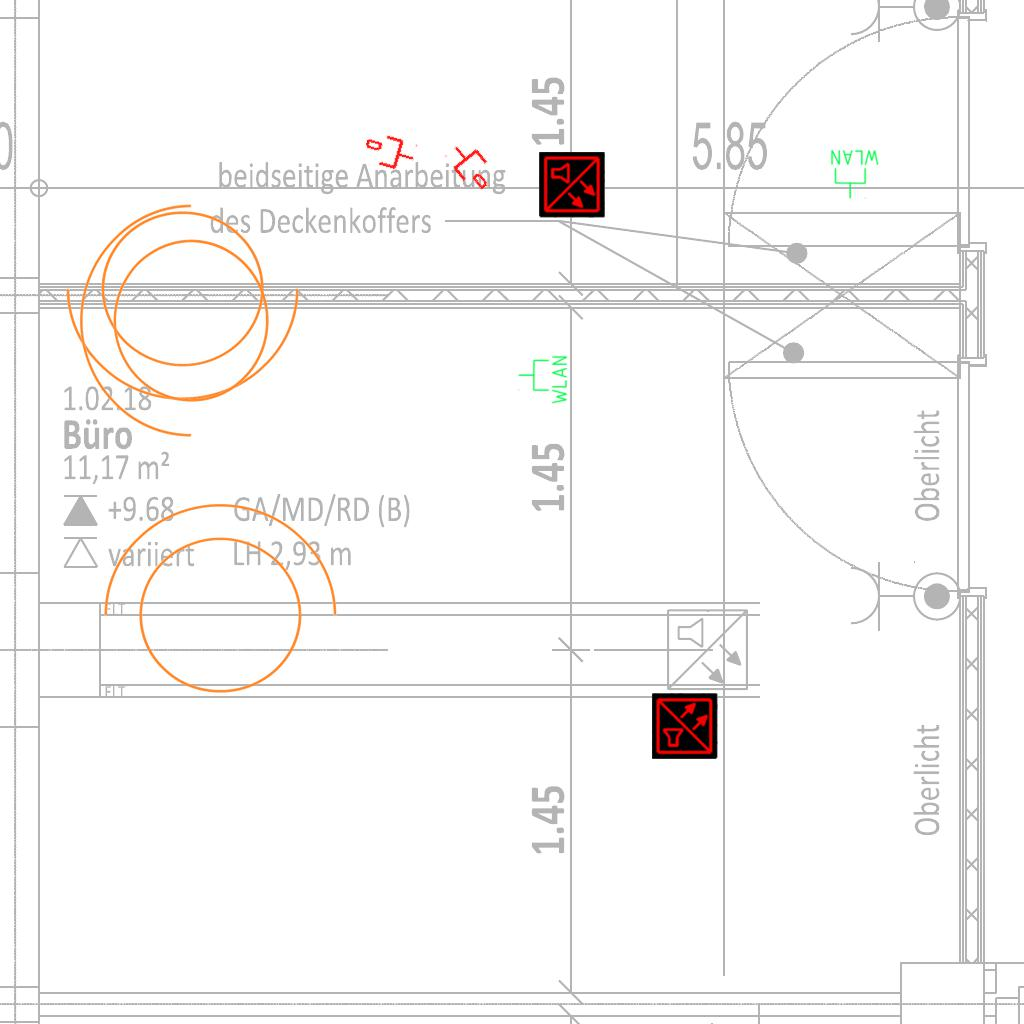Datenanschluss_einfach: (442, 135, 500, 197), (361, 128, 419, 176)
OKW_Multisensormelder_(Kombination_optischer_Rauch-Kahlenmonoxid_Waerme-Melder): (652, 693, 718, 759), (539, 152, 605, 218)
Scheinwerfer_fuer_Alarmbeleuchtung: (82, 493, 346, 718), (57, 186, 321, 411), (69, 195, 294, 459)
WLAN: (517, 354, 569, 406), (829, 148, 881, 200)
